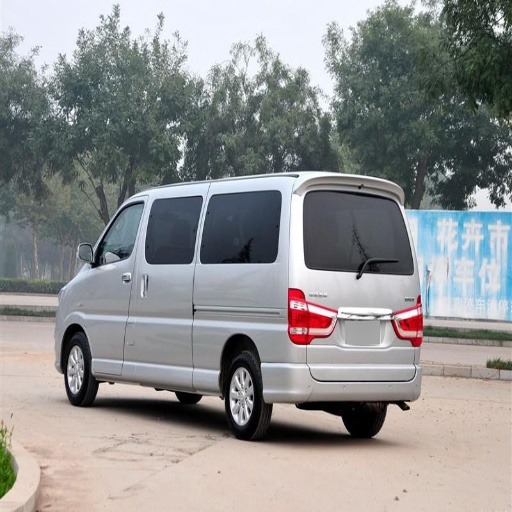back_bumper: (272, 345, 421, 401)
back_right_door: (83, 288, 127, 368)
trunk: (160, 270, 413, 392)
